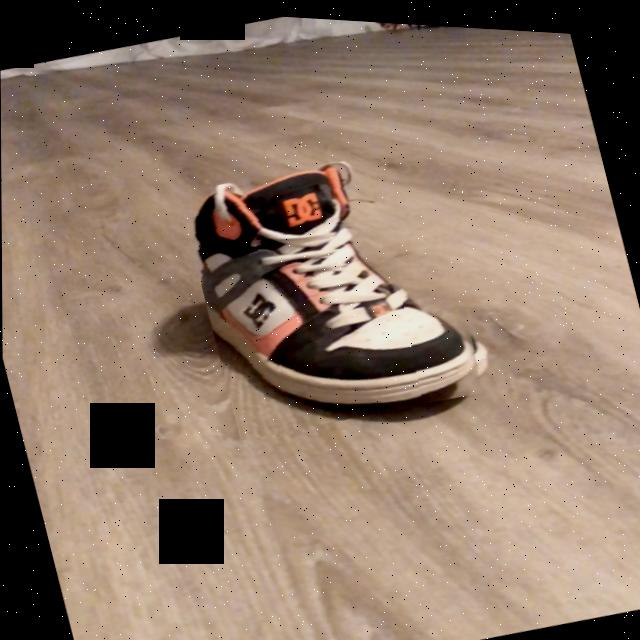shoe: (195, 161, 478, 405)
